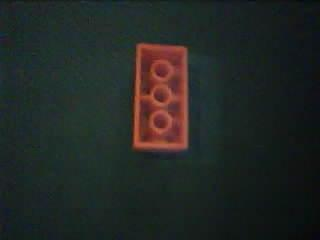lego: (131, 41, 190, 154)
